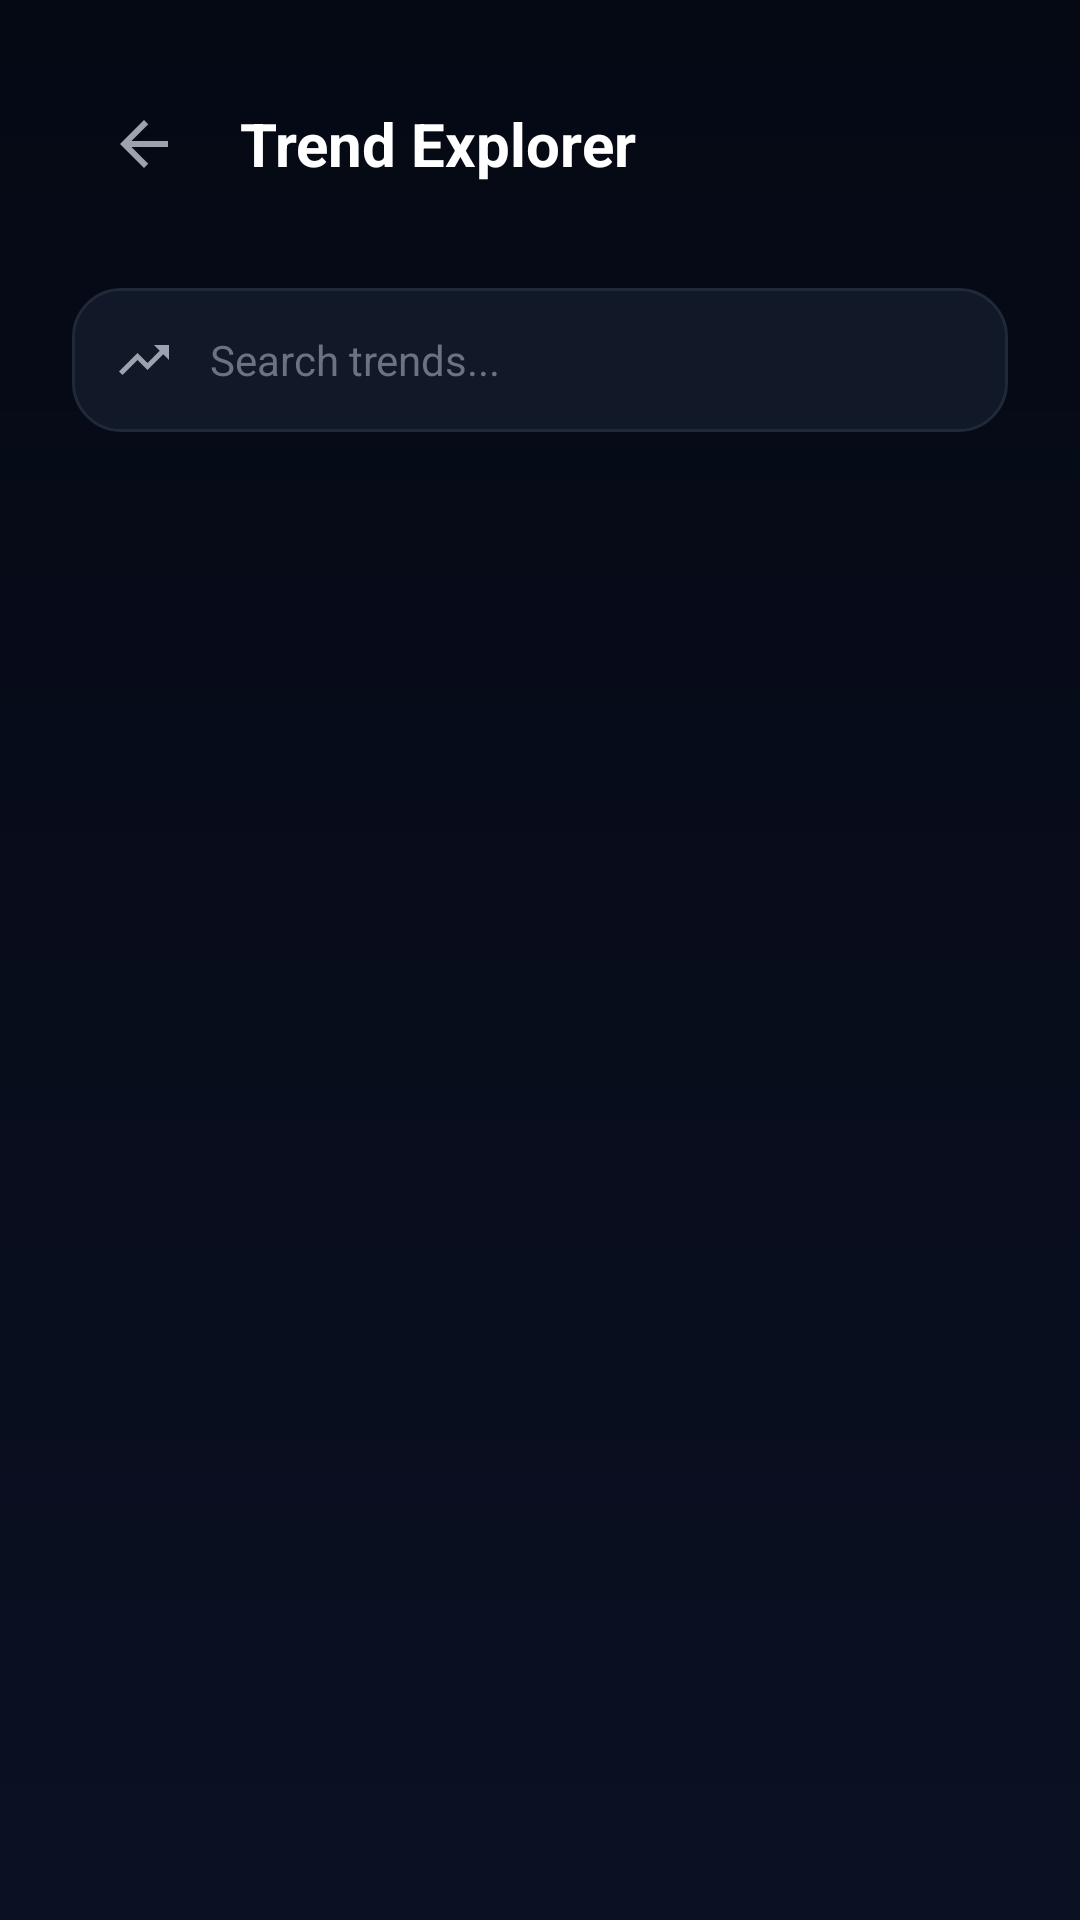

Icon bounding boxes for this 1080x1920 phone screenshot, format [x1, y1, x2, y2]:
back arrow: [120, 120, 168, 168]
graph: [119, 345, 169, 375]
